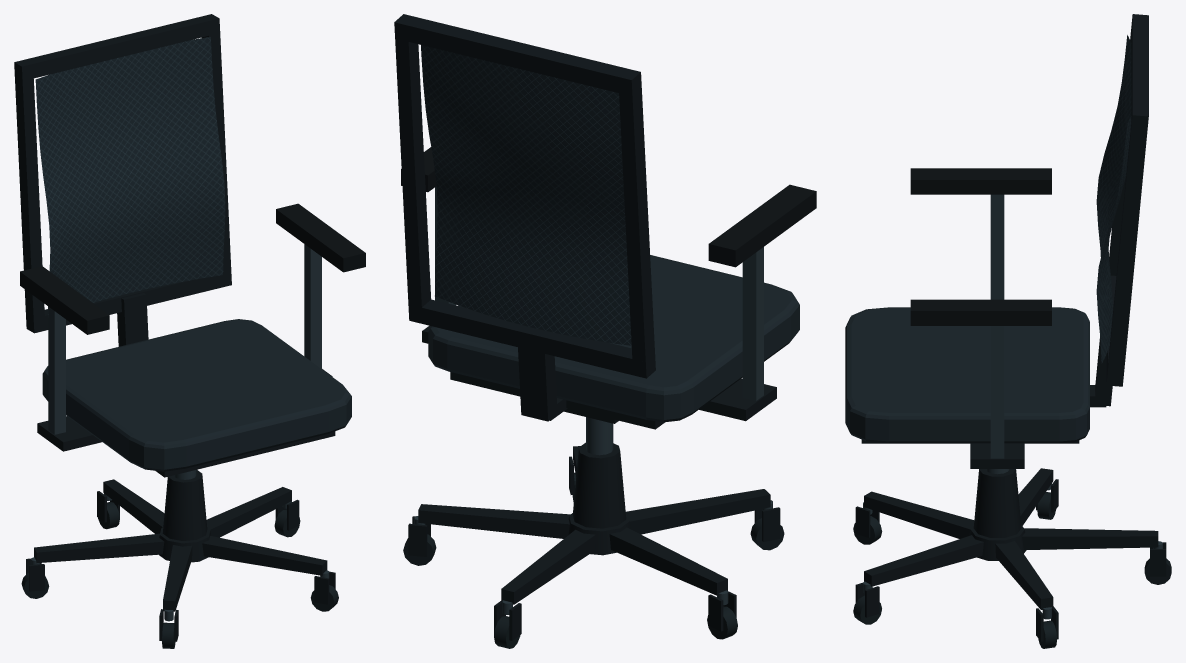
File: Office_Ergonomic_Chair.glb
3 views of the same model, side by side, from view 1: azimuth 30°, elevation 25°; view 2: azimuth 150°, elevation 25°; view 3: azimuth 270°, elevation 25° (orthographic). The views are drawn at different scales.
Parts seen in each view (by area): view 1: Mesh_Panel, Seat_Cushion, Leg_Arm (×5), Pad (×2), Frame_Top, Post (×2), Frame_Left, Column_Boot, Frame_Bottom, Frame_Right, Support_Upright, Bracket (+2 smaller); view 2: Mesh_Panel, Seat_Cushion, Leg_Arm (×4), Frame_Left, Frame_Right, Frame_Top, Frame_Bottom, Pad, Column_Boot, Post, Support_Upright, Bracket (+5 smaller); view 3: Seat_Cushion, Leg_Arm (×5), Pad (×2), Mesh_Panel, Frame_Right, Post (×2), Column_Boot, Frame_Top, Bracket, Frame_Left, Hub, Support_Upright (+1 smaller).
Boxes of the visible parts, x1,y1,x2,y2 form: Mesh_Panel: (35, 37, 225, 317); Seat_Cushion: (42, 319, 351, 471); Leg_Arm (×5): (34, 479, 327, 611); Pad (×2): (20, 203, 365, 334); Frame_Top: (14, 17, 220, 80); Post (×2): (48, 244, 321, 434); Frame_Left: (14, 59, 44, 318); Column_Boot: (162, 469, 207, 540); Frame_Bottom: (26, 270, 231, 333); Frame_Right: (201, 14, 231, 272); Support_Upright: (117, 293, 148, 346); Bracket: (37, 416, 101, 451); Mesh_Panel: (421, 45, 631, 345); Seat_Cushion: (428, 255, 799, 422); Leg_Arm (×4): (418, 489, 770, 604); Frame_Left: (618, 68, 654, 362); Frame_Right: (394, 14, 431, 307); Frame_Top: (394, 17, 641, 96); Frame_Bottom: (408, 299, 655, 378); Pad: (708, 184, 816, 267); Column_Boot: (572, 442, 626, 528); Post: (742, 247, 763, 400); Support_Upright: (518, 347, 557, 421); Bracket: (699, 378, 776, 421); Seat_Cushion: (845, 307, 1089, 443); Leg_Arm (×5): (864, 468, 1158, 609); Pad (×2): (910, 168, 1051, 325); Mesh_Panel: (1096, 35, 1131, 363); Frame_Right: (1108, 109, 1148, 371); Post (×2): (990, 194, 1004, 458); Column_Boot: (973, 469, 1021, 537); Frame_Top: (1131, 15, 1148, 131); Bracket: (970, 443, 1024, 468); Frame_Left: (1109, 14, 1148, 275); Hub: (969, 525, 1026, 560); Support_Upright: (1094, 337, 1112, 406).
Bounding box in the file's own units: 0.62 × 1.05 × 0.6.
Materials: 6 (1 with a texture image).
